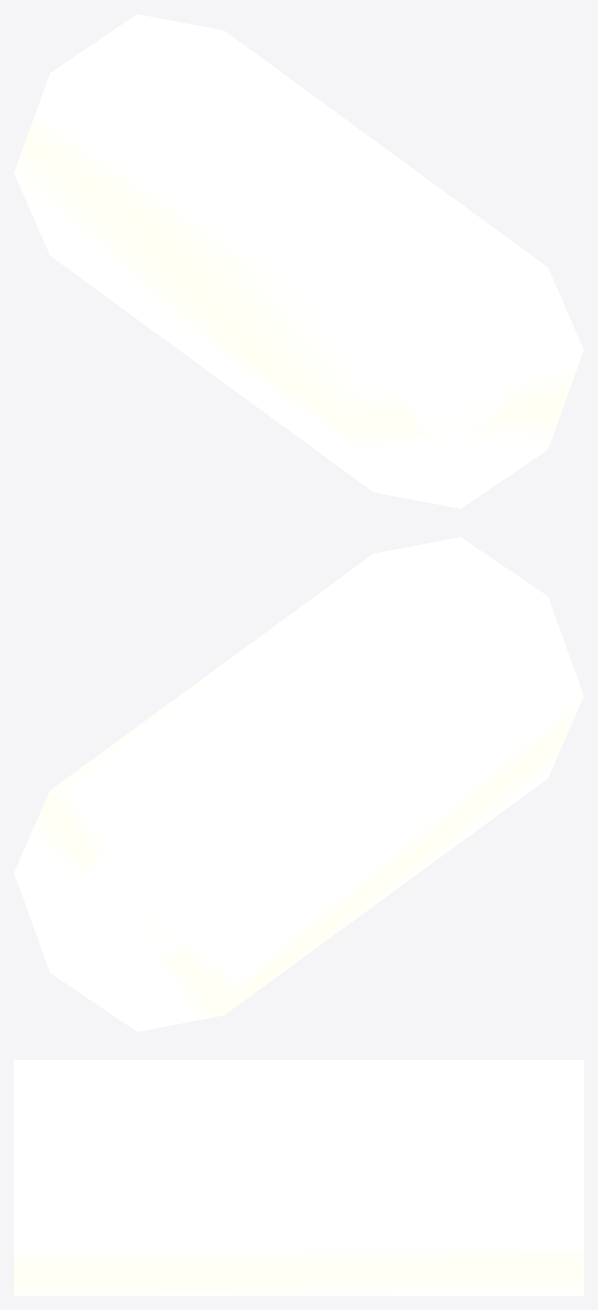
The model's file is Beam_1cm.glb.
3 renders of one model, top to bottom at view 1: azimuth 30°, elevation 25°; view 2: azimuth 150°, elevation 25°; view 3: azimuth 270°, elevation 25°, orthographic. The views are drawn at different scales.
Visible parts, largest first — view 1: BeamGold, BeamCore; view 2: BeamGold, BeamCore; view 3: BeamGold.
Part boxes in pixels (x1=…): BeamGold: x1=14, y1=14, x2=583, y2=508; BeamCore: x1=404, y1=321, x2=516, y2=438; BeamGold: x1=14, y1=537, x2=583, y2=1031; BeamCore: x1=81, y1=844, x2=192, y2=961; BeamGold: x1=14, y1=1060, x2=583, y2=1295.
Bounding box in the file's own units: 0.0044 × 0.0044 × 0.01.
